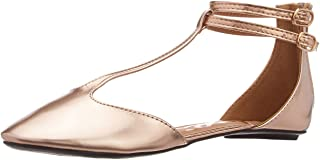shoes: (1, 1, 320, 160)
